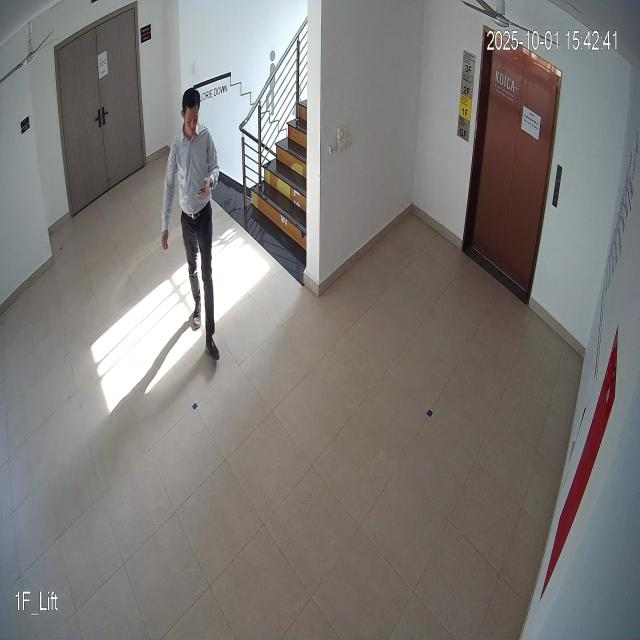face: (178, 87, 204, 148)
